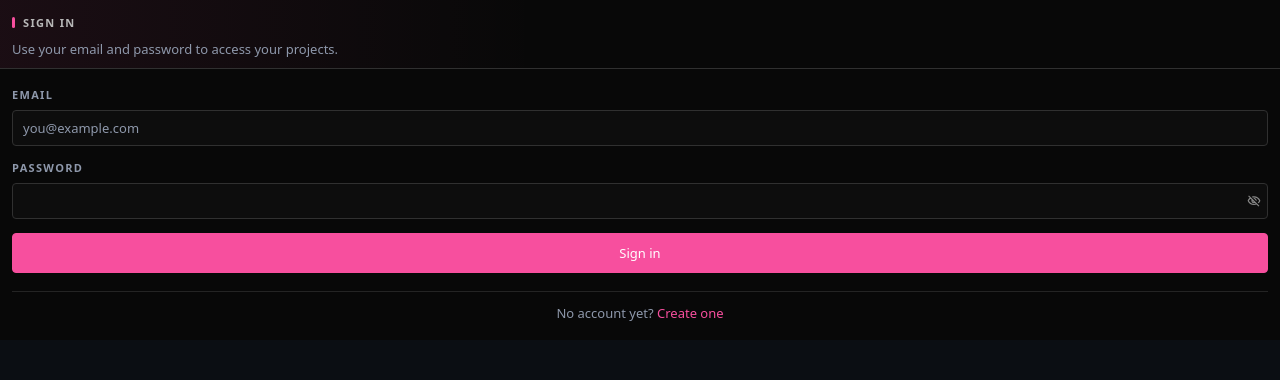
Test case: LoginPage › shows client-side email validation instead of browser validation
This screenshot has width=1280, height=380.
In the field with placeholder "you@example.com": [640, 128] box 12,110 -> 1268,146, type "ф"
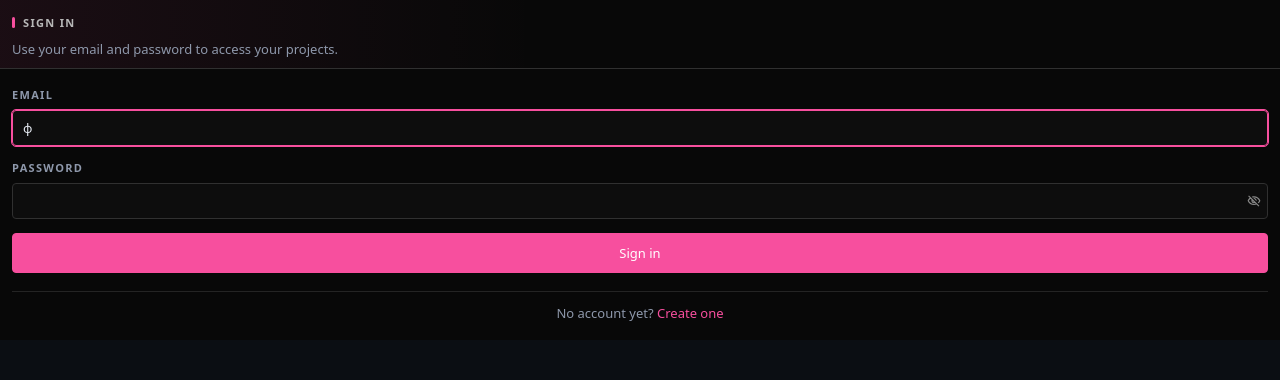
In the password field labelled "Password": [640, 200] box 12,182 -> 1268,218, type "password123"
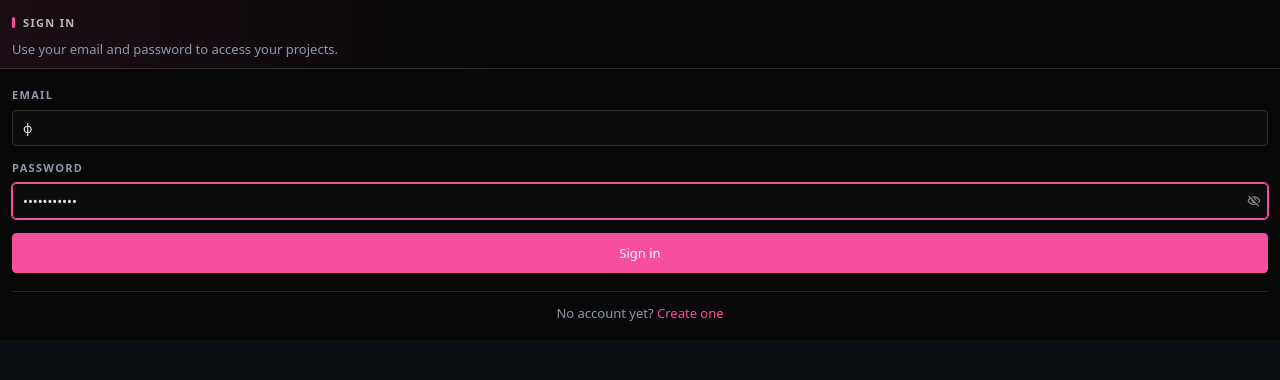
Click the button "Sign in": [640, 252] box 12,232 -> 1268,272
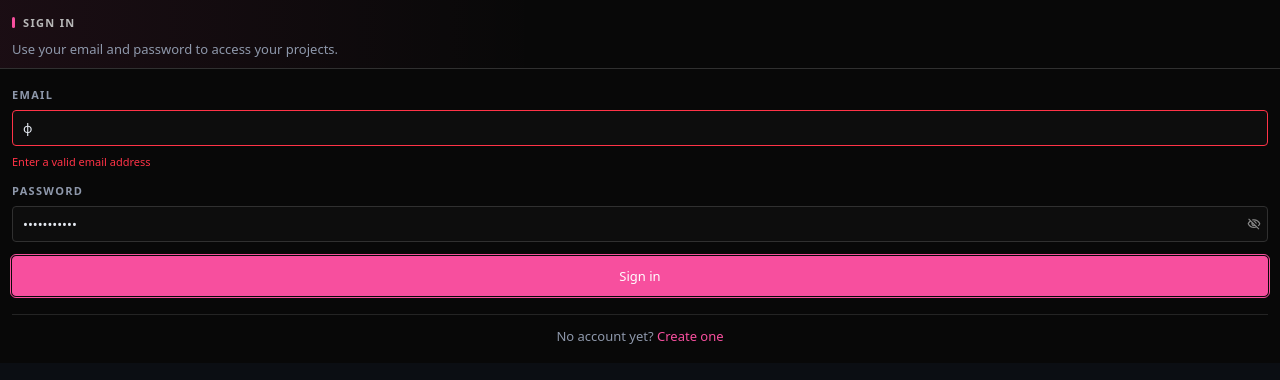
Now the text "Enter a valid email address" is shown, box 12,154 -> 150,168
